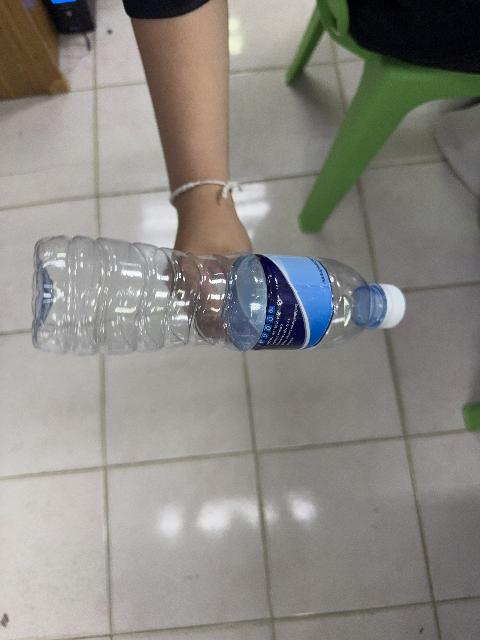bottle: (33, 237, 405, 354)
